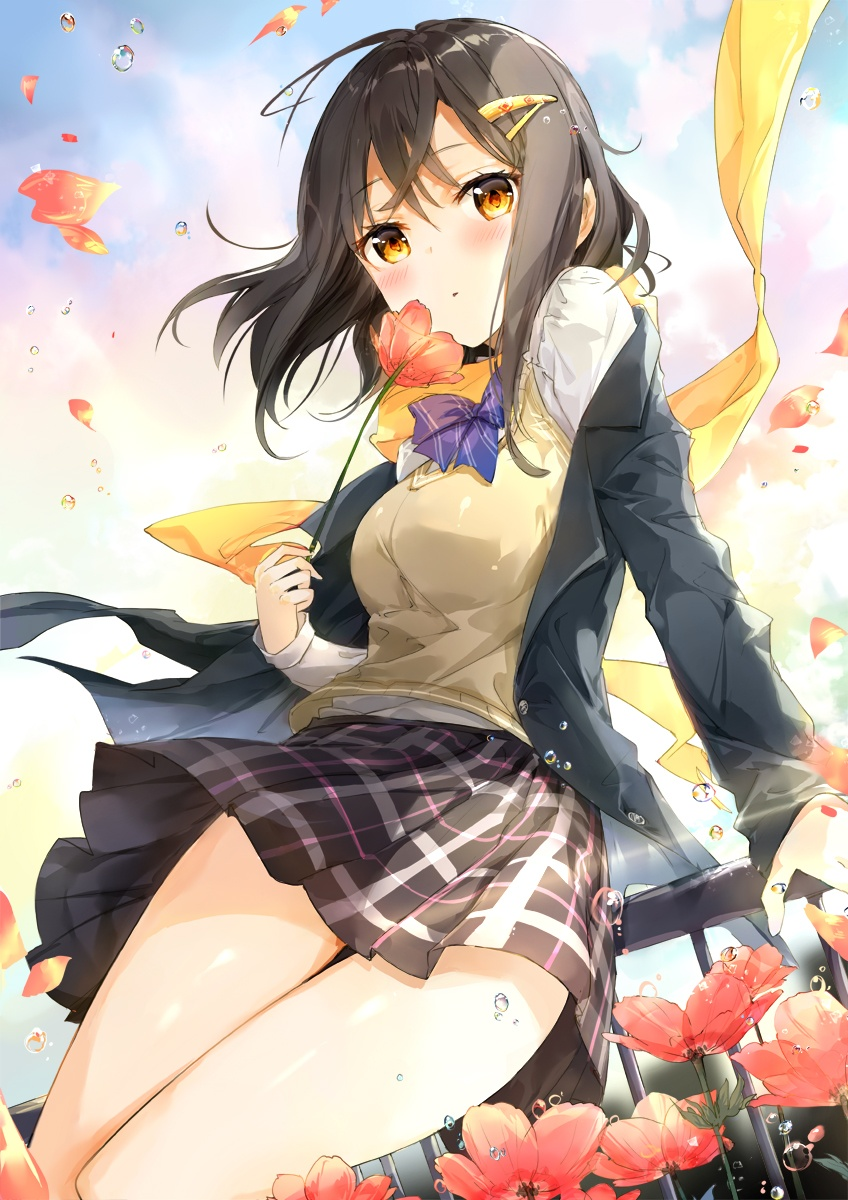纸片人正脸: (261, 14, 634, 355)
